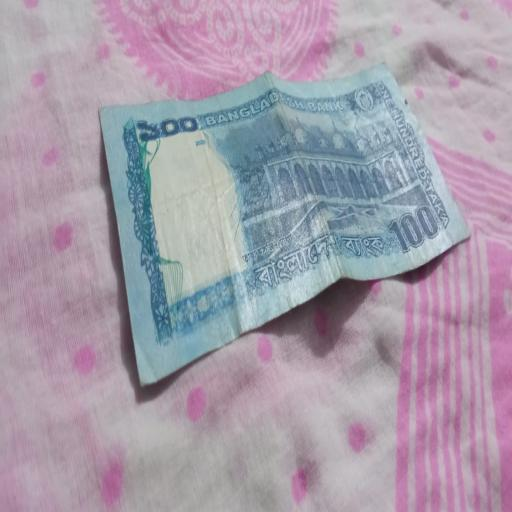100taka: (99, 55, 470, 388)
